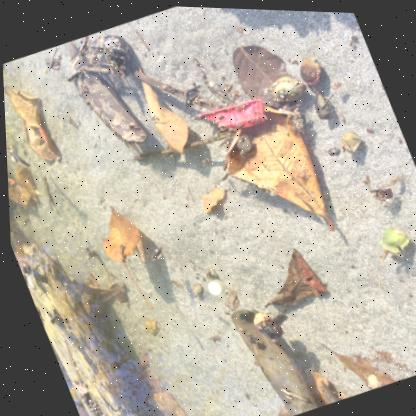Plastic: (194, 95, 263, 127)
Waste: (204, 276, 222, 292)
